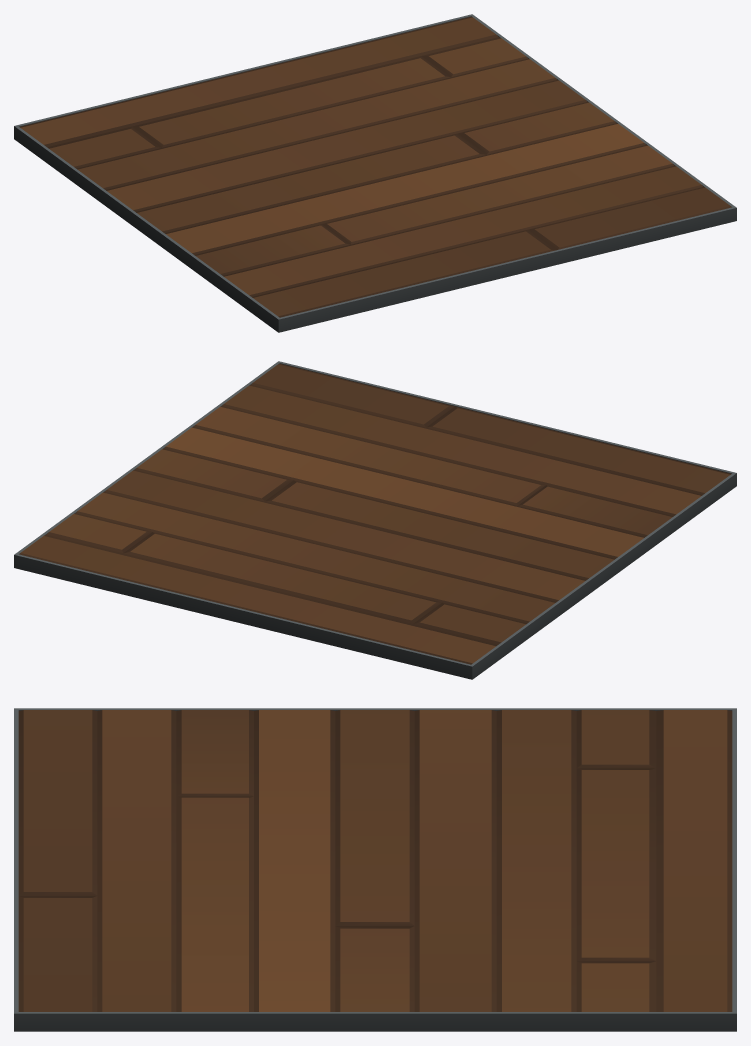
Rendered from TSP_House_Floor_Small_04A.fbx.
The picture shows the model from 3 angles, top to bottom: view 1: azimuth 30°, elevation 25°; view 2: azimuth 150°, elevation 25°; view 3: azimuth 270°, elevation 25°; orthographic projection. The views are drawn at different scales.
Parts seen in each view (by area): view 1: TSP_House_Floor_Small_04A; view 2: TSP_House_Floor_Small_04A; view 3: TSP_House_Floor_Small_04A.
Boxes of the visible parts, left/top/right/bottom form: TSP_House_Floor_Small_04A: left=14, top=14, right=736, bottom=332; TSP_House_Floor_Small_04A: left=14, top=361, right=736, bottom=679; TSP_House_Floor_Small_04A: left=14, top=708, right=736, bottom=1031.
Bounding box in the file's own units: 4 × 0.11 × 4.
